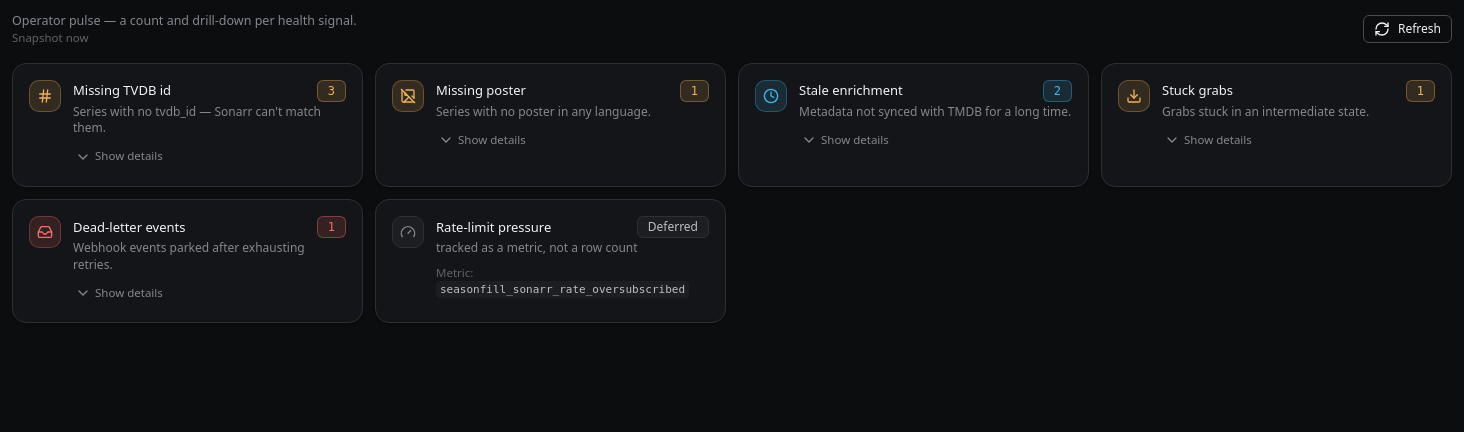
Scenario: <Health /> › expands a drill-down and reveals the offending rows
Expected: the text "The Expanse" is not shown
Click the button with test id "health-missing-tvdb-toggle" at (119, 157), box [69,145,169,169]
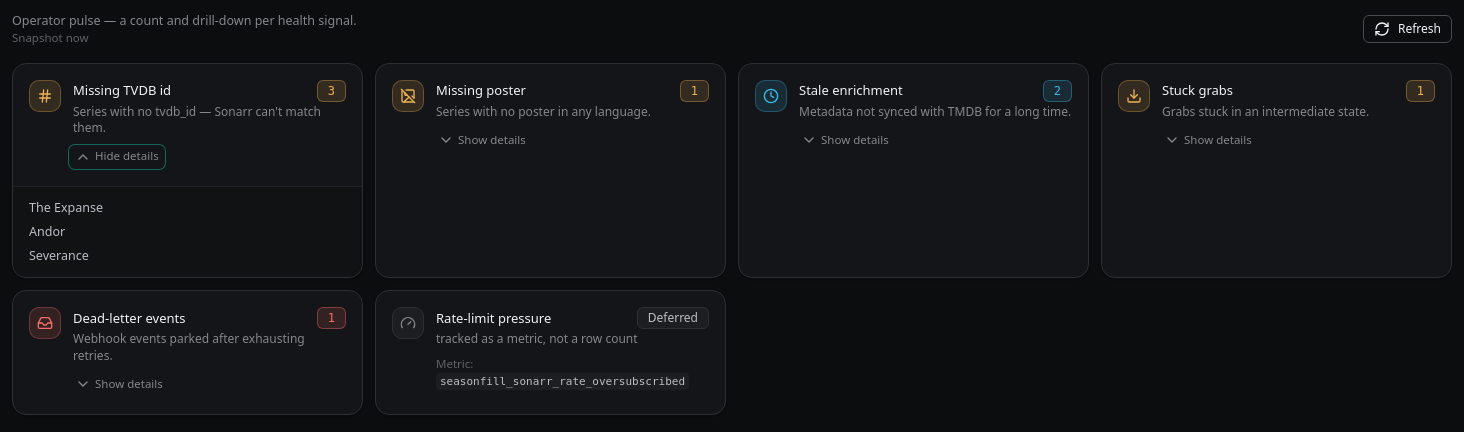
Now the link "The Expanse" is shown, box [29,199,103,216]
Now the list with test id "health-missing-tvdb-items" is shown, box [29,199,103,264]
